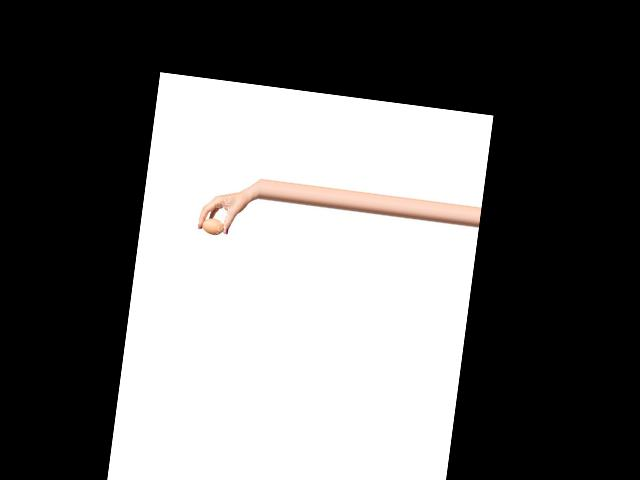egg: (201, 217, 225, 235)
